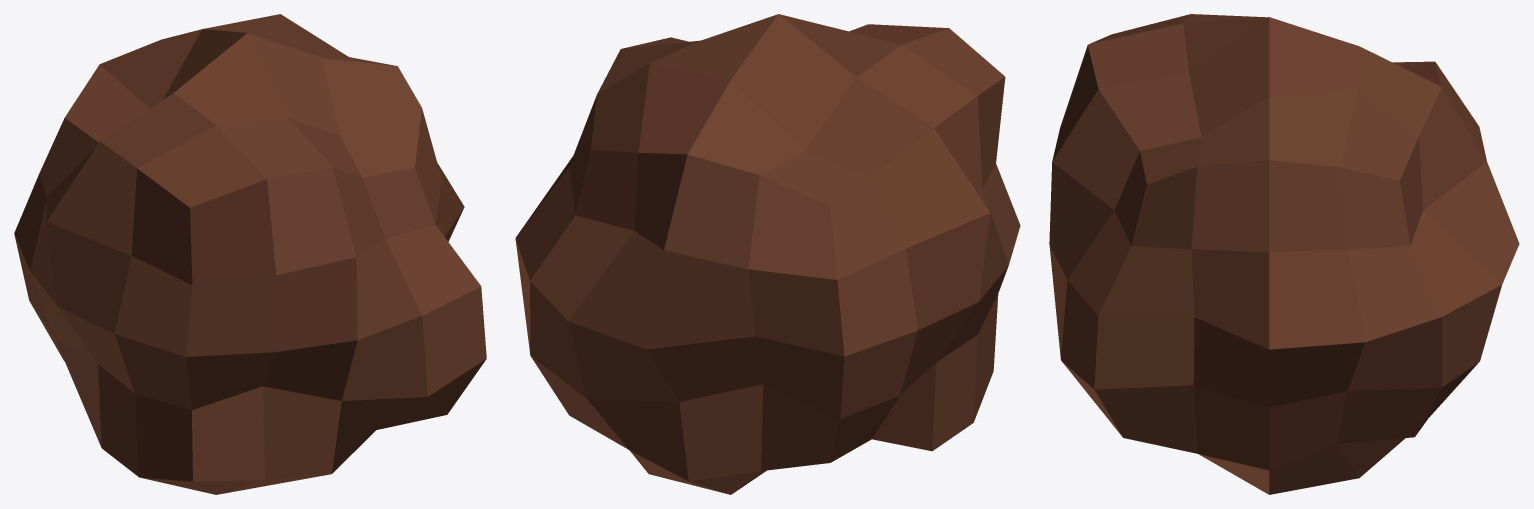
Rendered from rock_1.glb.
3 renders of one model, left to right at view 1: azimuth 30°, elevation 25°; view 2: azimuth 150°, elevation 25°; view 3: azimuth 270°, elevation 25°, orthographic. The views are drawn at different scales.
Parts seen in each view (by area): view 1: r2; view 2: r2; view 3: r2.
Boxes of the visible parts, x1,y1,x2,y2 form: r2: (14,14,486,494); r2: (515,14,1020,494); r2: (1049,14,1519,494).
Size of the model in its own units: 0.2031 by 0.2031 by 0.1979.
